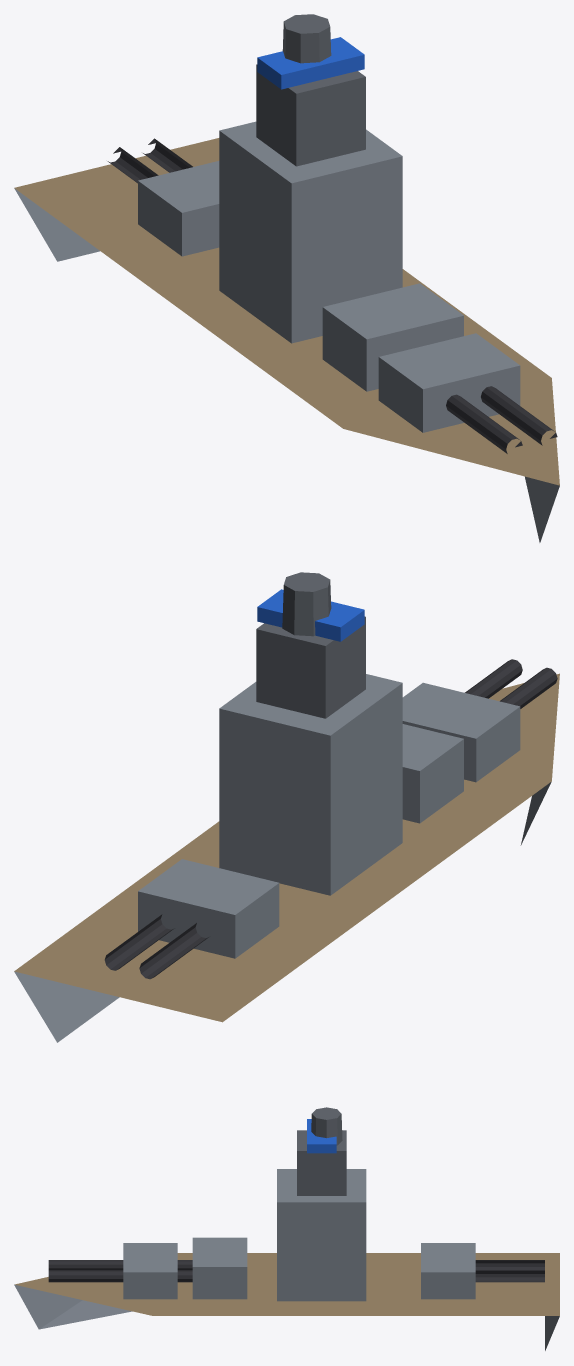
Rendered from battleship.glb.
3 views of the same model, one above another, from view 1: azimuth 30°, elevation 25°; view 2: azimuth 150°, elevation 25°; view 3: azimuth 270°, elevation 25° (orthographic). The views are drawn at different scales.
Parts seen in each view (by area): view 1: battleship; view 2: battleship; view 3: battleship.
Boxes of the visible parts, <box> form: battleship: <box>14,14,559,542</box>; battleship: <box>14,572,559,1042</box>; battleship: <box>14,1107,559,1350</box>.
Size of the model in its own units: 0.3 by 0.48 by 1.1.
